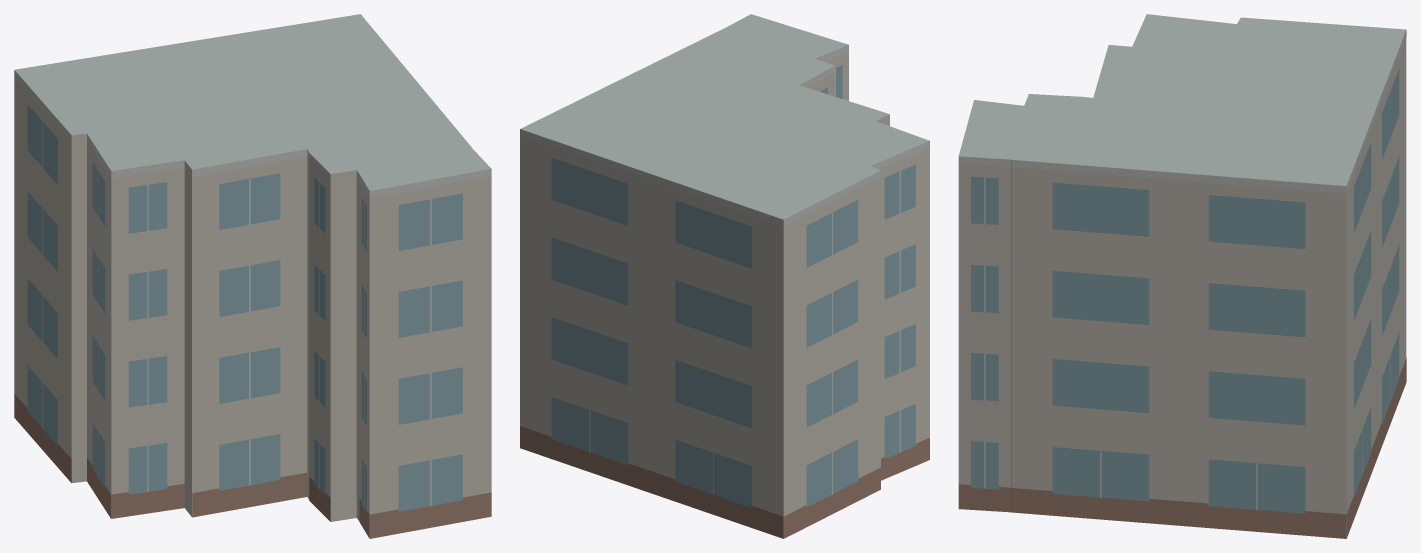
File: survey-upis-32499598.glb
3 renders of one model, left to right at view 1: azimuth 30°, elevation 25°; view 2: azimuth 150°, elevation 25°; view 3: azimuth 270°, elevation 25°, orthographic. The views are drawn at different scales.
Parts seen in each view (by area): view 1: survey-upis-32499598.tmp; view 2: survey-upis-32499598.tmp; view 3: survey-upis-32499598.tmp.
Part boxes in pixels (x1,y1,x2,y2): survey-upis-32499598.tmp: (14,14,491,538); survey-upis-32499598.tmp: (520,14,929,538); survey-upis-32499598.tmp: (958,14,1406,538).
Bounding box in the file's own units: 12.16 × 11.6 × 13.36.
